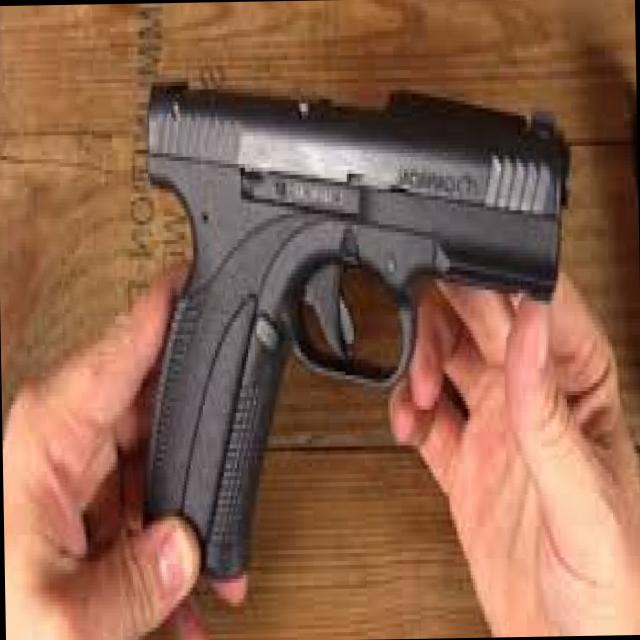Gun: (104, 69, 586, 559)
